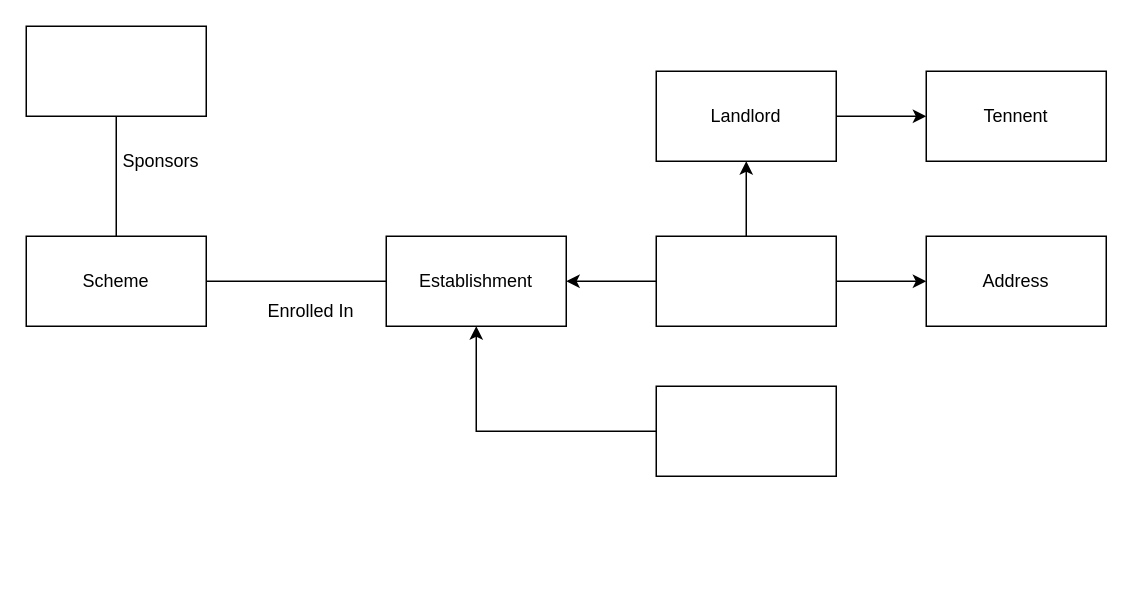
Image size: 1133x590. Some labels were removed from this diagram. The centre of each missing label's shape, as x and y in pixels:
Competent Authority: the point at 115,70
Operator: the point at 745,430
Premises: the point at 745,280
